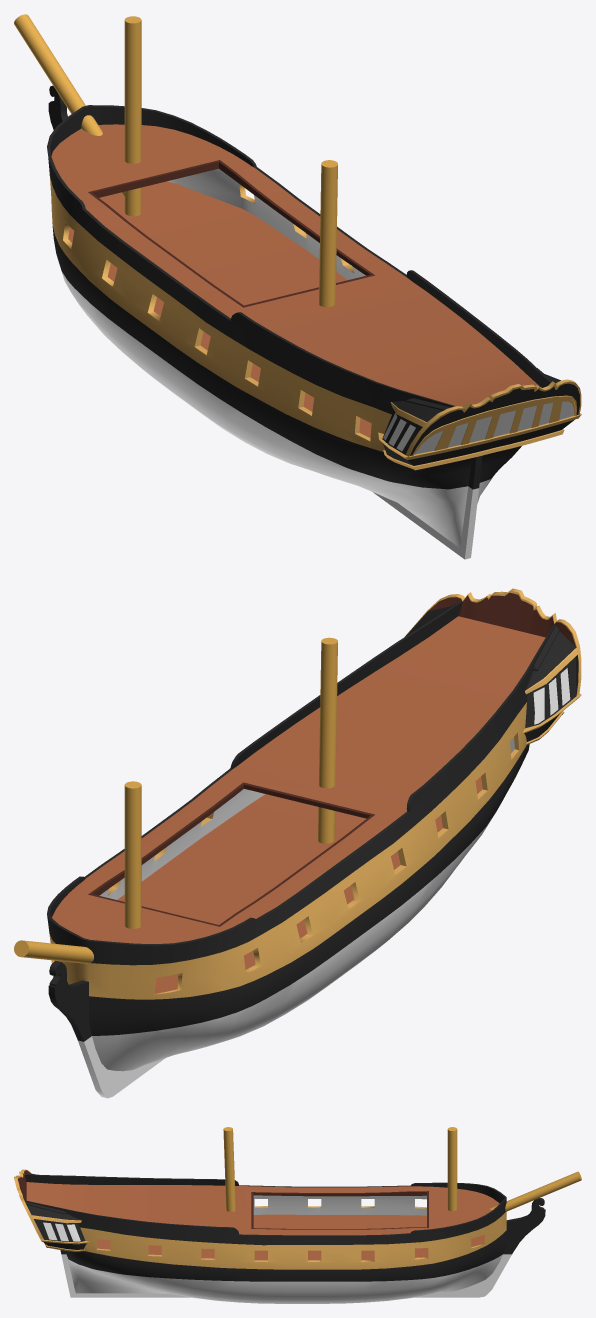
The model's file is Ship_test.fbx.
The picture shows the model from 3 angles, top to bottom: view 1: azimuth 30°, elevation 25°; view 2: azimuth 150°, elevation 25°; view 3: azimuth 270°, elevation 25°; orthographic projection. The views are drawn at different scales.
Parts seen in each view (by area): view 1: Cube, Plane, Cylinder, Cylinder.001, Cylinder.002; view 2: Cube, Plane, Cylinder.001, Cylinder, Cylinder.002; view 3: Cube, Plane, Cylinder, Cylinder.001, Cylinder.002.
Part boxes in pixels (left/top/right/bottom): Cube: left=47, top=85, right=551, bottom=559; Plane: left=378, top=368, right=581, bottom=470; Cylinder: left=124, top=16, right=141, bottom=216; Cylinder.001: left=319, top=160, right=337, bottom=306; Cylinder.002: left=14, top=14, right=125, bottom=197; Cube: left=47, top=601, right=555, bottom=1098; Plane: left=404, top=588, right=581, bottom=744; Cylinder.001: left=318, top=637, right=337, bottom=843; Cylinder: left=124, top=781, right=141, bottom=928; Cylinder.002: left=14, top=940, right=93, bottom=963; Cube: left=24, top=1174, right=545, bottom=1303; Plane: left=14, top=1169, right=90, bottom=1252; Cylinder: left=447, top=1127, right=457, bottom=1211; Cylinder.001: left=223, top=1127, right=235, bottom=1211; Cylinder.002: left=490, top=1171, right=581, bottom=1211.
Size of the model in its own units: 898 by 1225 by 3756.
